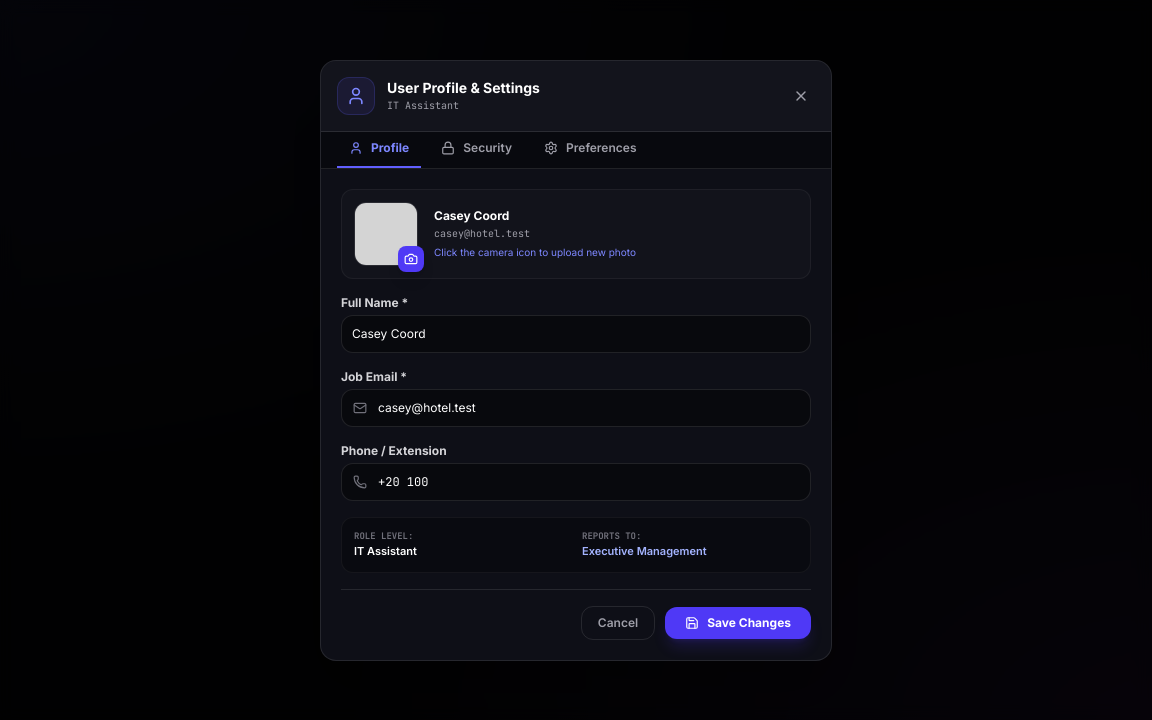
UserProfileModal › disables Save while the new password is weak or unconfirmed
The image size is (1152, 720).
Click the button "Security" at (477, 154), box [429,140,524,168]
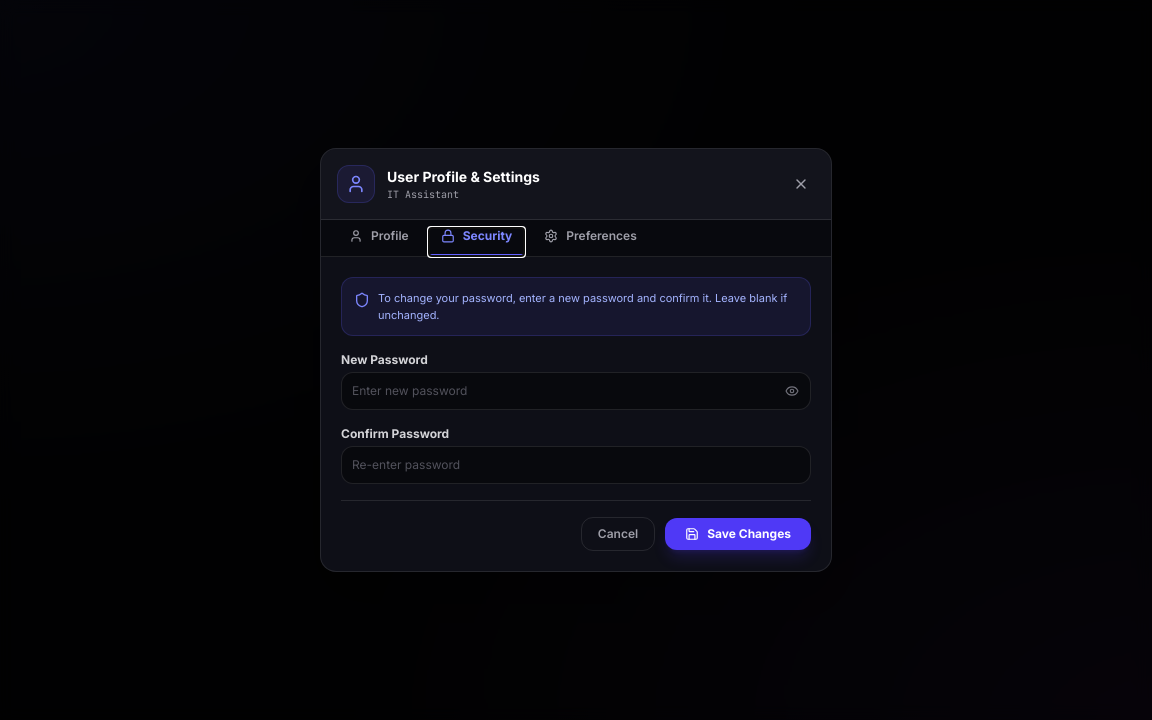
Type "Str0ngPass" into the password field with placeholder "Enter new password" at (576, 391), box [341,372,811,410]
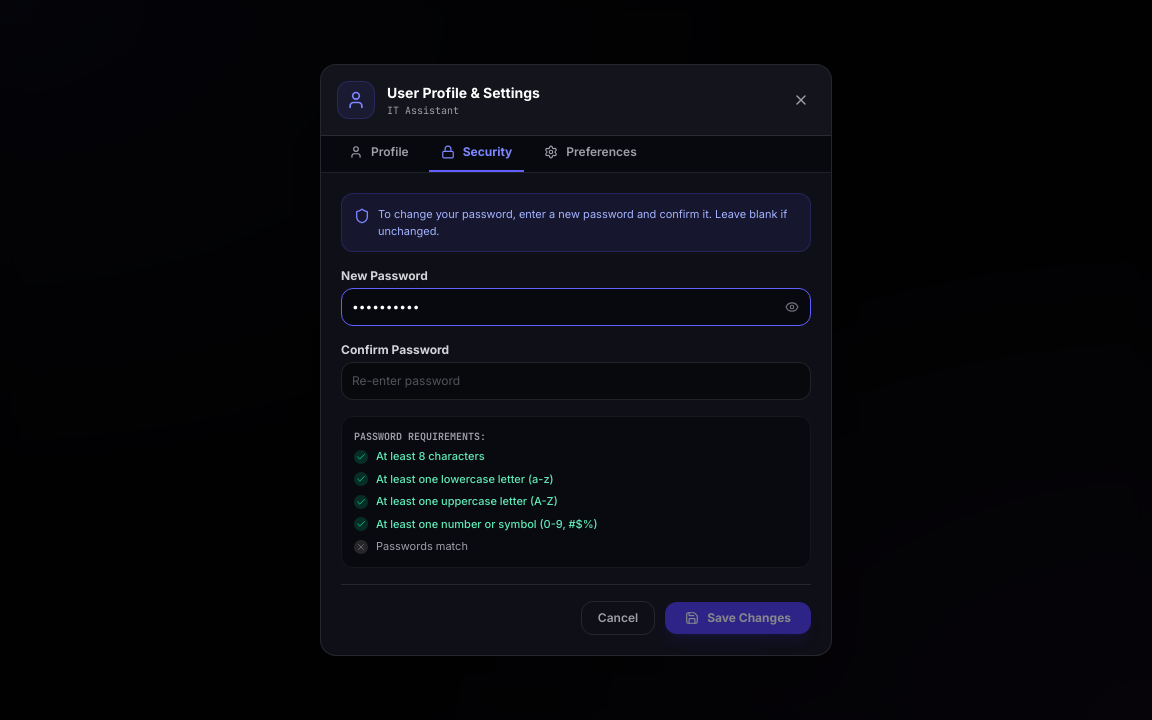
Expected: the button "Save Changes" is disabled, [665,602,811,634]
Type "different" into the password field with placeholder "Re-enter password" at (576, 381), box [341,362,811,400]
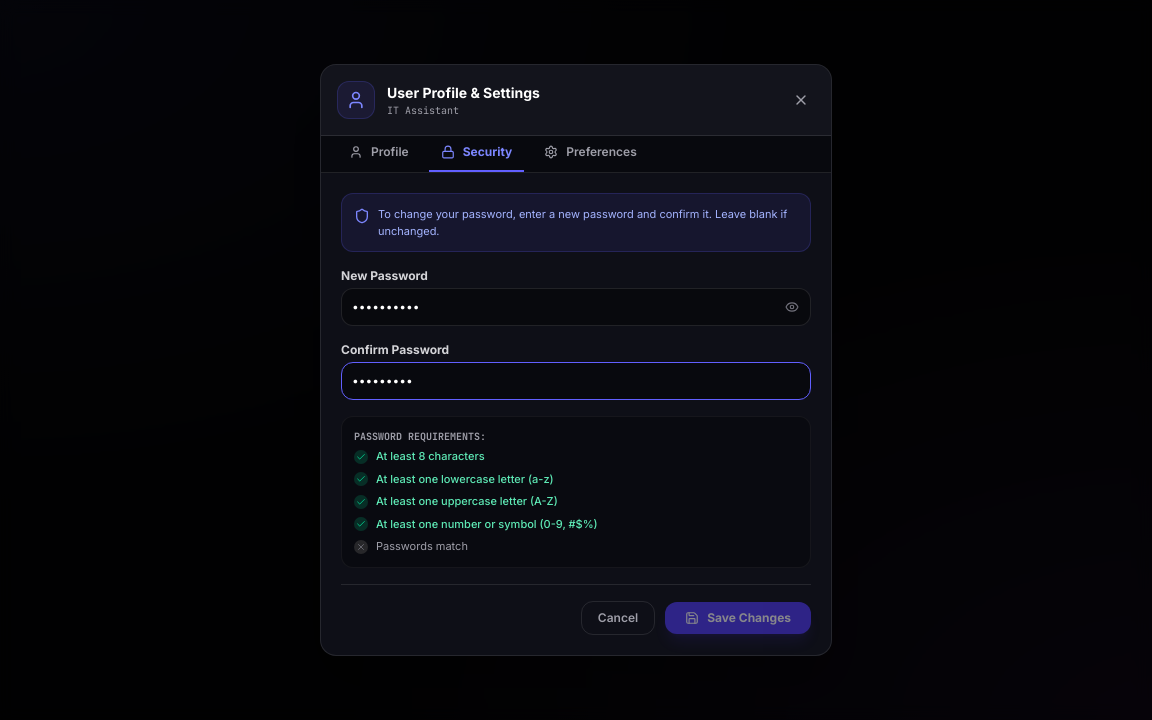
Expected: the button "Save Changes" is disabled, [665,602,811,634]
Type "Str0ngPass" into the password field with placeholder "Re-enter password" below "Confirm Password" at (576, 381), box [341,362,811,400]
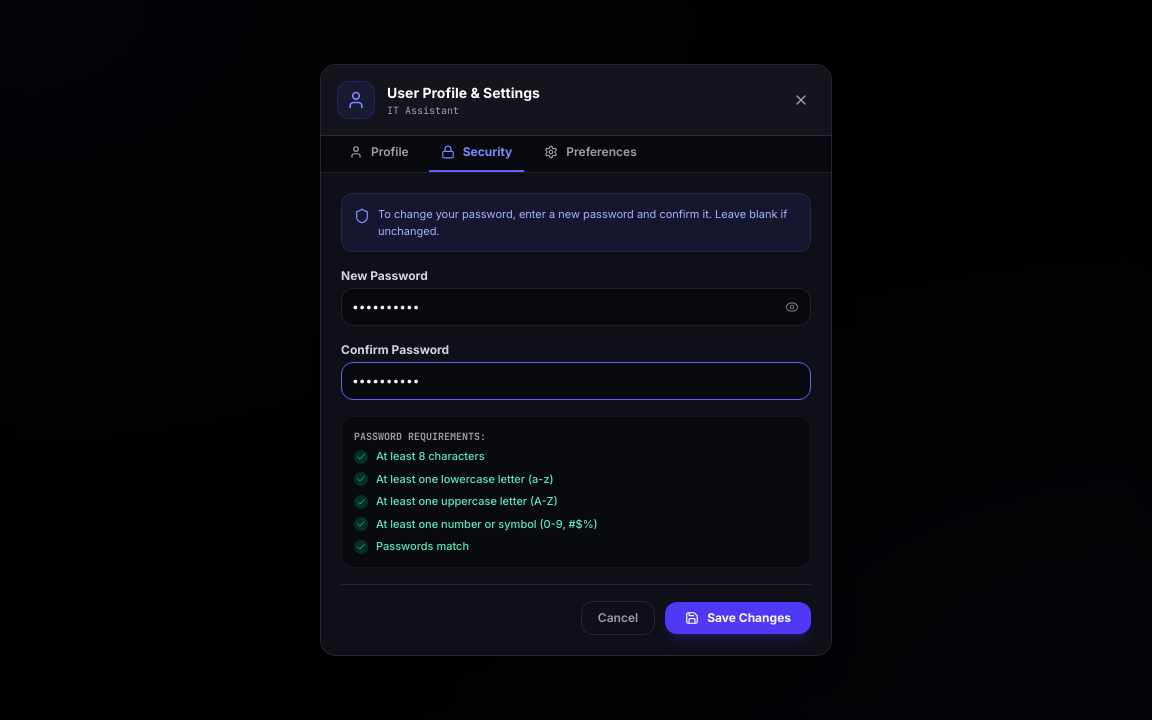
Expected: the button "Save Changes" is enabled, [665,602,811,634]
